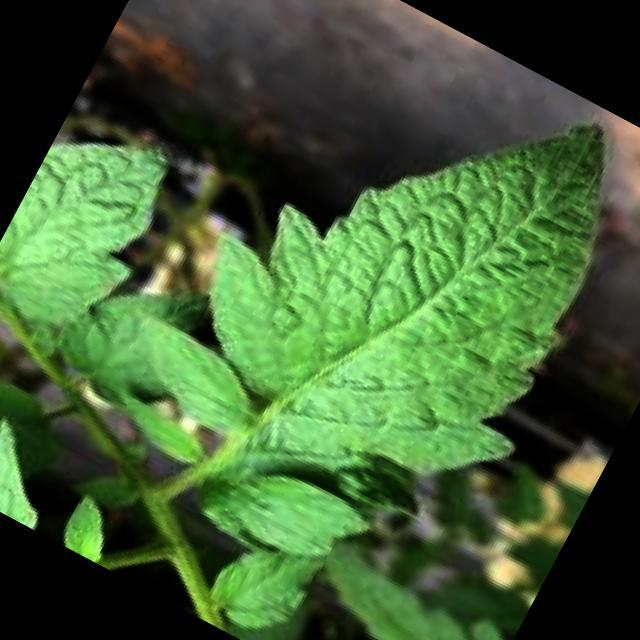Tomato healthy leaf: (143, 125, 605, 554), (0, 133, 170, 329)
